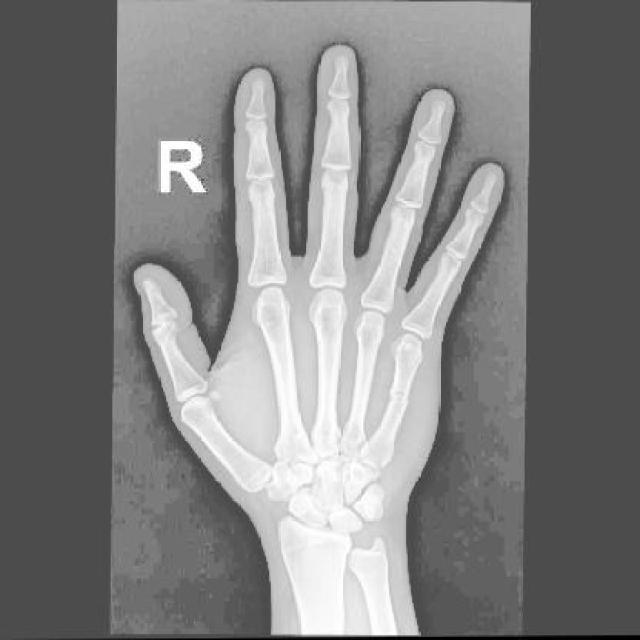Fracture: (386, 383, 412, 411)
